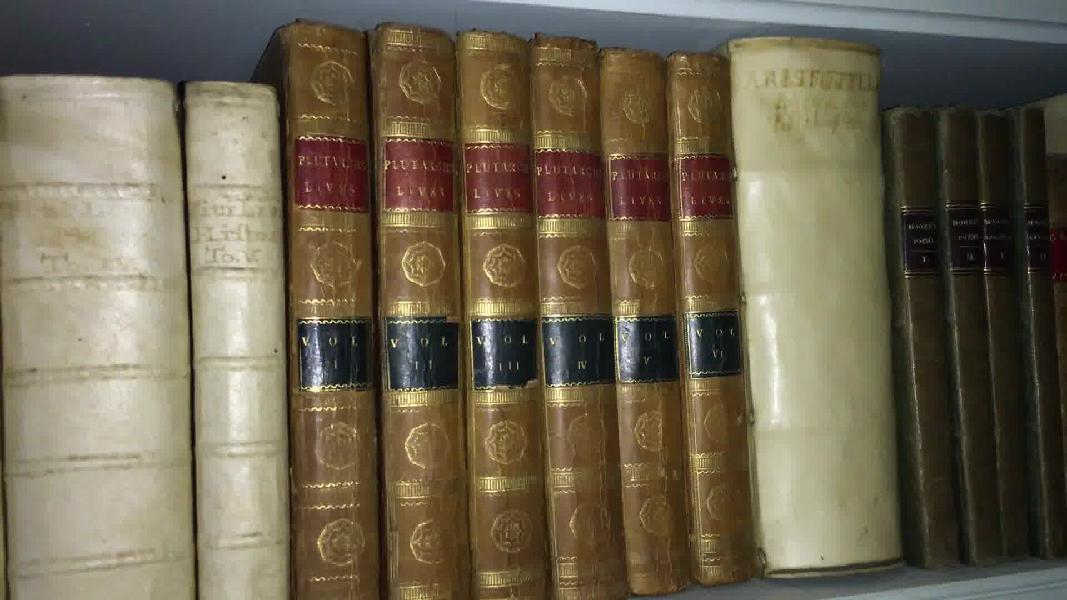Kk4-14: (716, 19, 910, 600)
Kk4-15_16: (875, 82, 1013, 582)
Kk4-17_18: (969, 89, 1067, 569)
Kk4-3_7: (1, 44, 310, 600)
Kk4-8_13: (262, 12, 756, 600)
